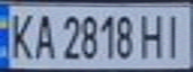1: (97, 11, 118, 60)
2: (57, 10, 81, 61)
8: (115, 11, 139, 60), (78, 11, 100, 61)
A: (30, 9, 57, 61)
H: (136, 10, 169, 60)
I: (157, 9, 190, 60)
K: (3, 9, 36, 61)
